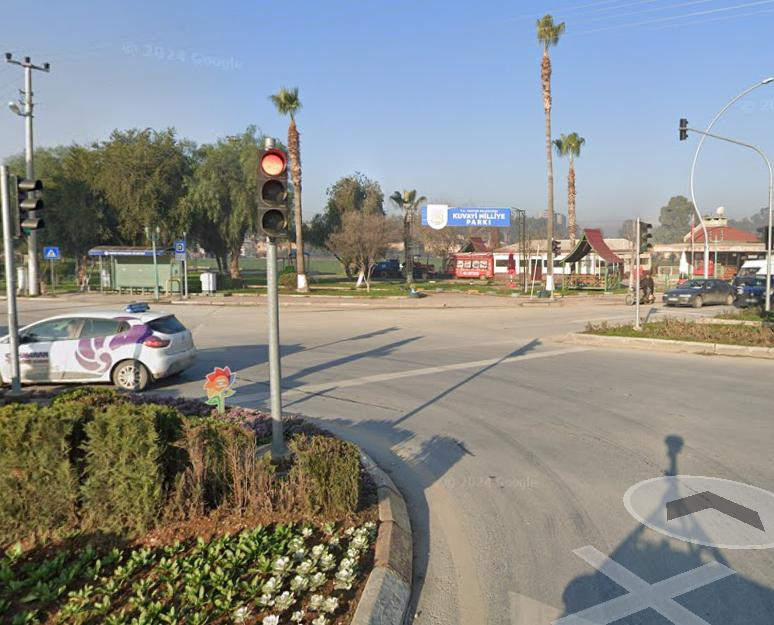redlight: (255, 147, 290, 242)
